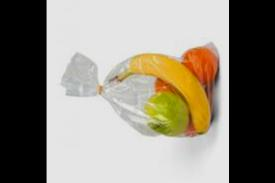Plastic: (57, 38, 222, 135)
